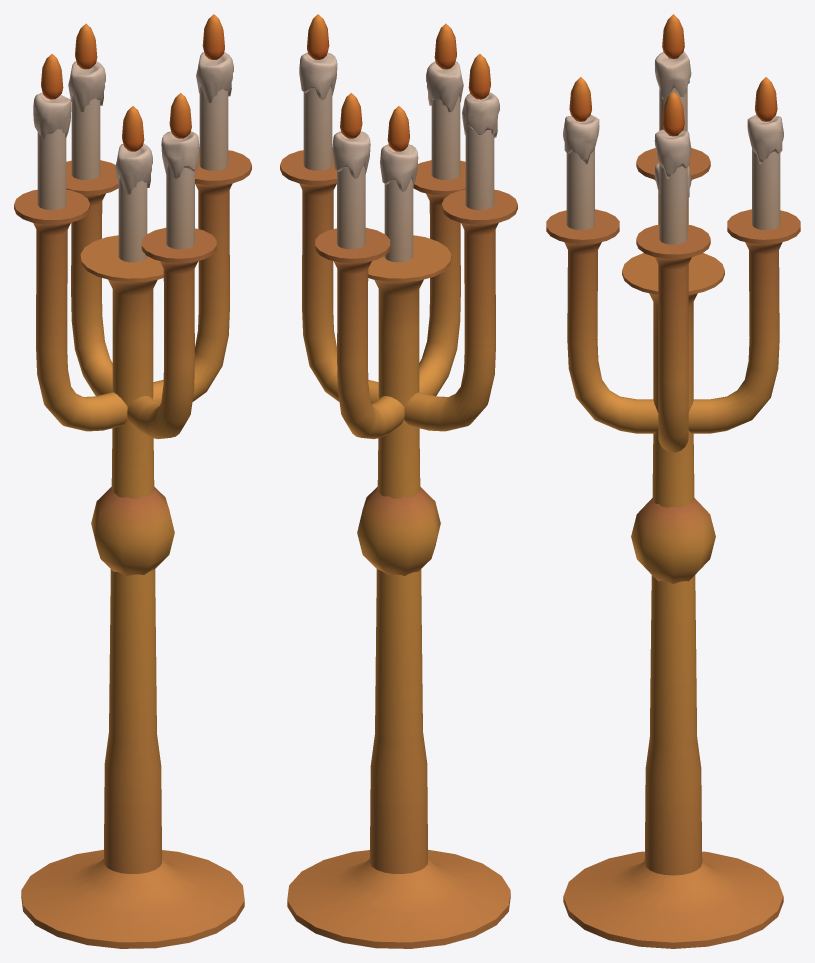
Rendered from candleholder_floor.fbx.
3 views of the same model, side by side, from view 1: azimuth 30°, elevation 25°; view 2: azimuth 150°, elevation 25°; view 3: azimuth 270°, elevation 25° (orthographic). The views are drawn at different scales.
Visible parts, largest first — view 1: pSphere6; view 2: pSphere6; view 3: pSphere6.
Part boxes in pixels (x1,y1,x2,y2): pSphere6: (14, 14, 251, 948); pSphere6: (280, 14, 517, 948); pSphere6: (546, 14, 800, 948).
Size of the model in its own units: 0.4015 by 1.47 by 0.3984.
